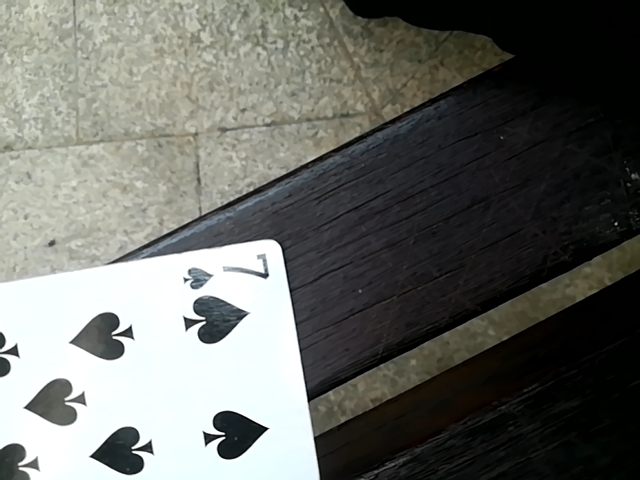ht 7: (0, 245, 331, 479)
